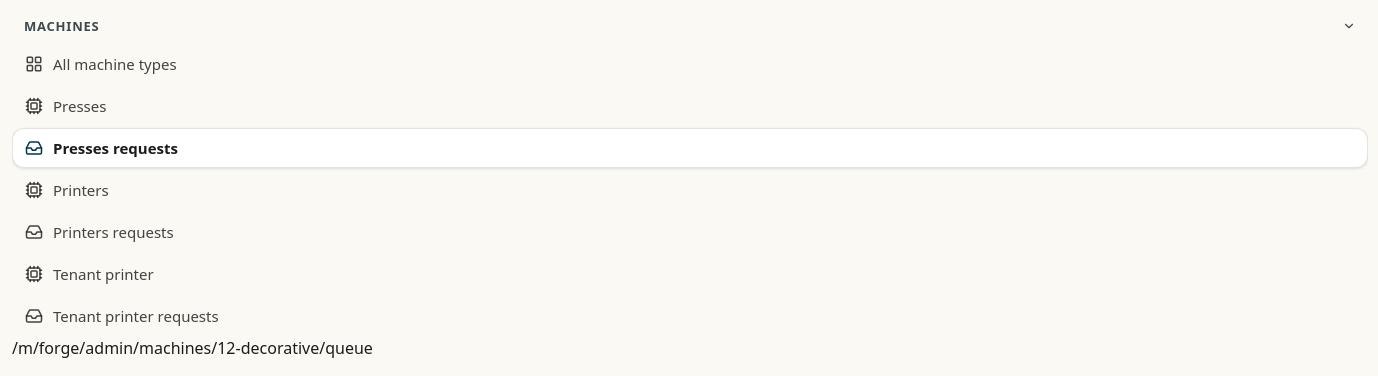
Test: type request navigation authority › uses only scoped server types and navigates to the ID-specific queue
The image size is (1378, 376).
Click the link "Presses requests" at (115, 148), box [12,128,1368,168]
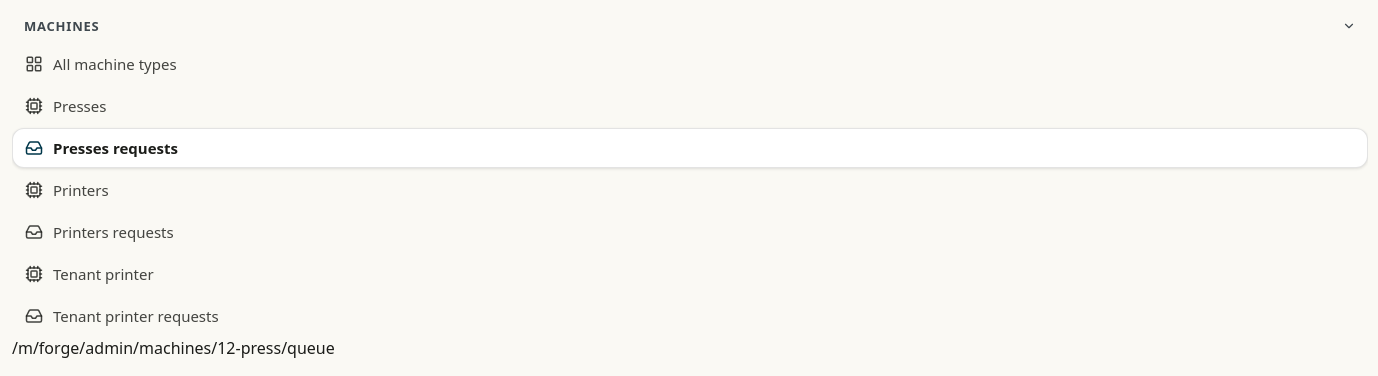
Now the text named "Current path" reads "/m/forge/admin/machines/12-press/queue", box [12,337,335,359]
